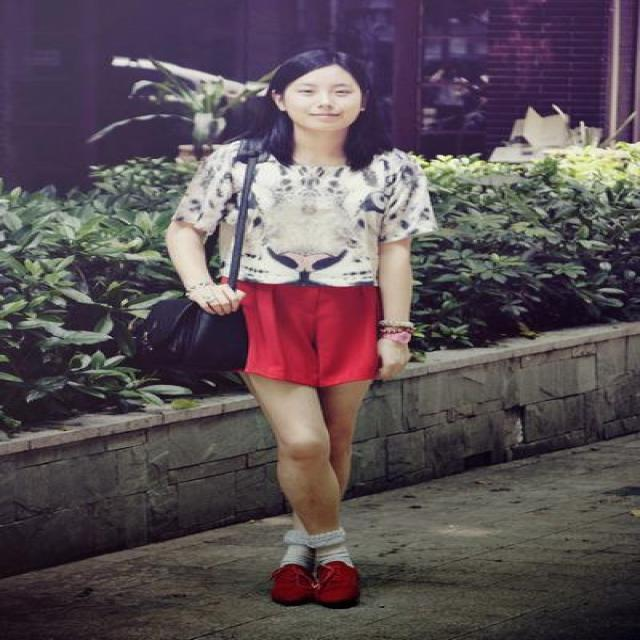bag: (136, 131, 270, 370)
shirt: (173, 141, 443, 286)
shoe: (269, 528, 358, 608)
skirt: (238, 269, 392, 386)
